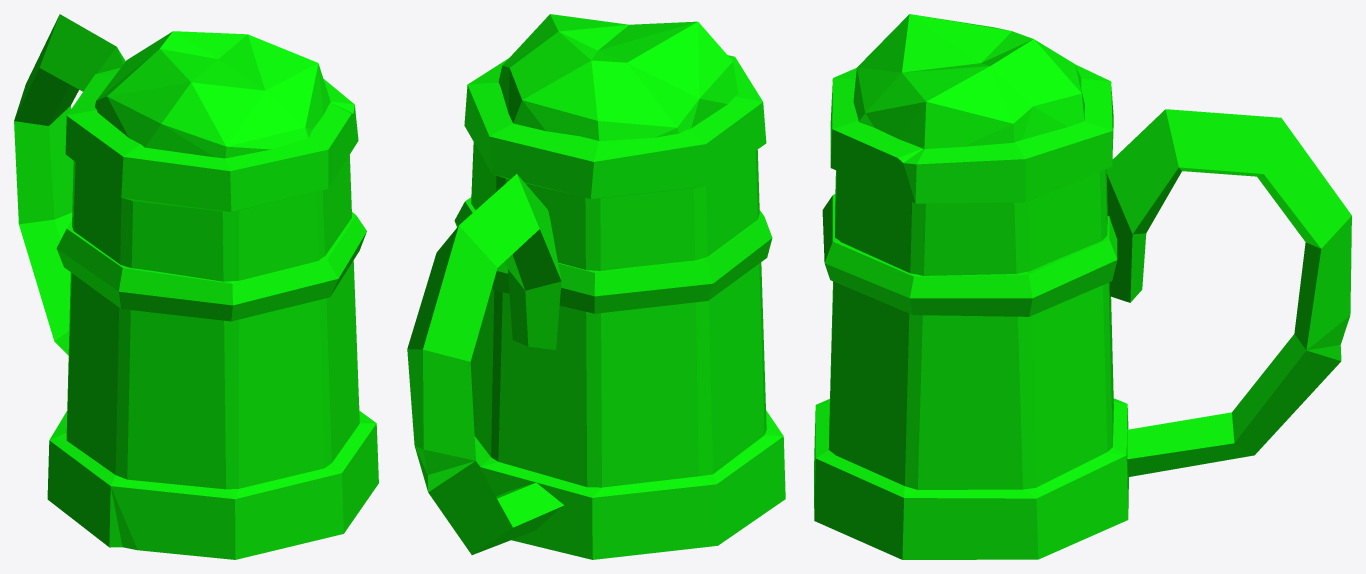
The model's file is SM_Beer_Glass_Wood_A_Full_Fantasy.fbx.
3 views of the same model, side by side, from view 1: azimuth 30°, elevation 25°; view 2: azimuth 150°, elevation 25°; view 3: azimuth 270°, elevation 25° (orthographic). The views are drawn at different scales.
Visible parts, largest first — view 1: beer-glass-wood-a-full-fantasy; view 2: beer-glass-wood-a-full-fantasy; view 3: beer-glass-wood-a-full-fantasy.
Boxes of the visible parts, bbox=[...] form: beer-glass-wood-a-full-fantasy: bbox=[14, 14, 378, 559]; beer-glass-wood-a-full-fantasy: bbox=[407, 14, 785, 559]; beer-glass-wood-a-full-fantasy: bbox=[814, 14, 1351, 559].
Size of the model in its own units: 0.1015 by 0.1604 by 0.1722.
